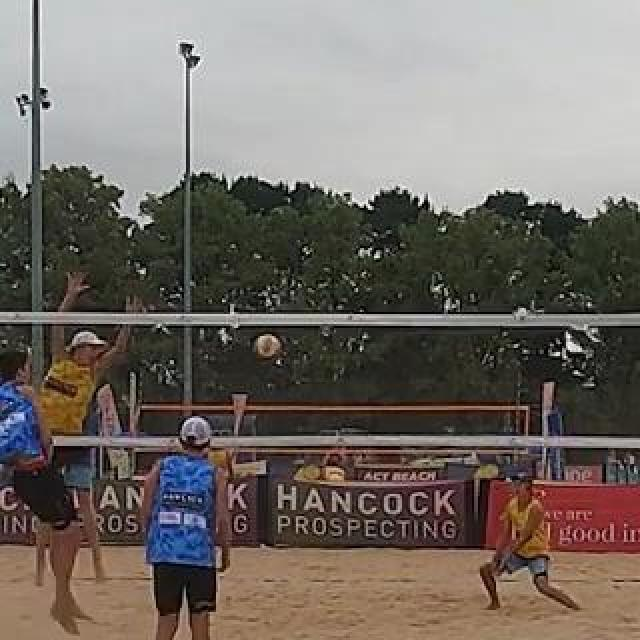volleyball: (255, 335, 279, 359)
